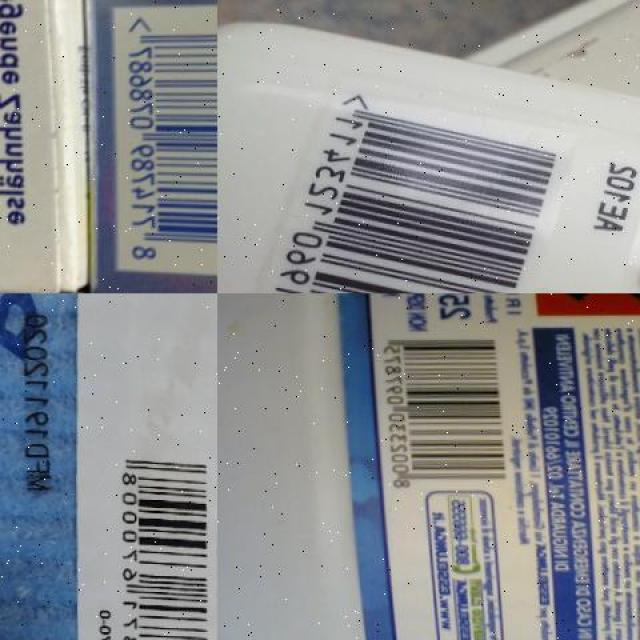Barcode: (229, 82, 579, 294), (107, 0, 217, 280), (369, 328, 512, 488), (107, 436, 216, 640)
